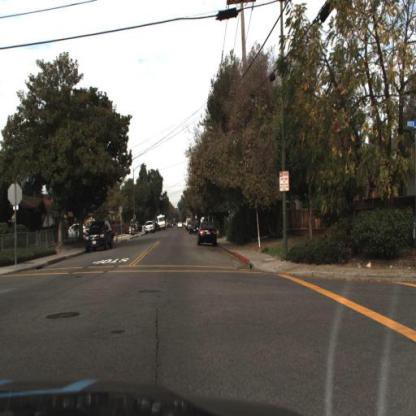car: (81, 213, 115, 250), (87, 218, 116, 255), (197, 214, 218, 247), (197, 224, 220, 251), (144, 220, 159, 237), (143, 220, 157, 237)
pedestrian: (129, 215, 139, 241)
